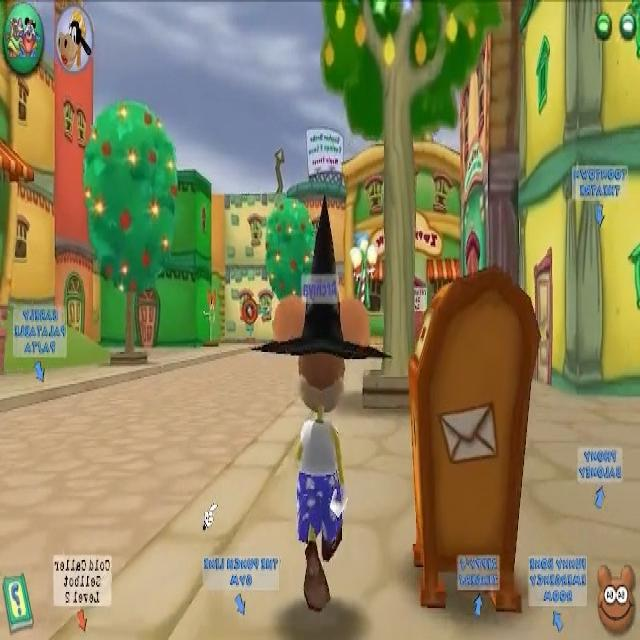telemarketer: (399, 286, 426, 346)
